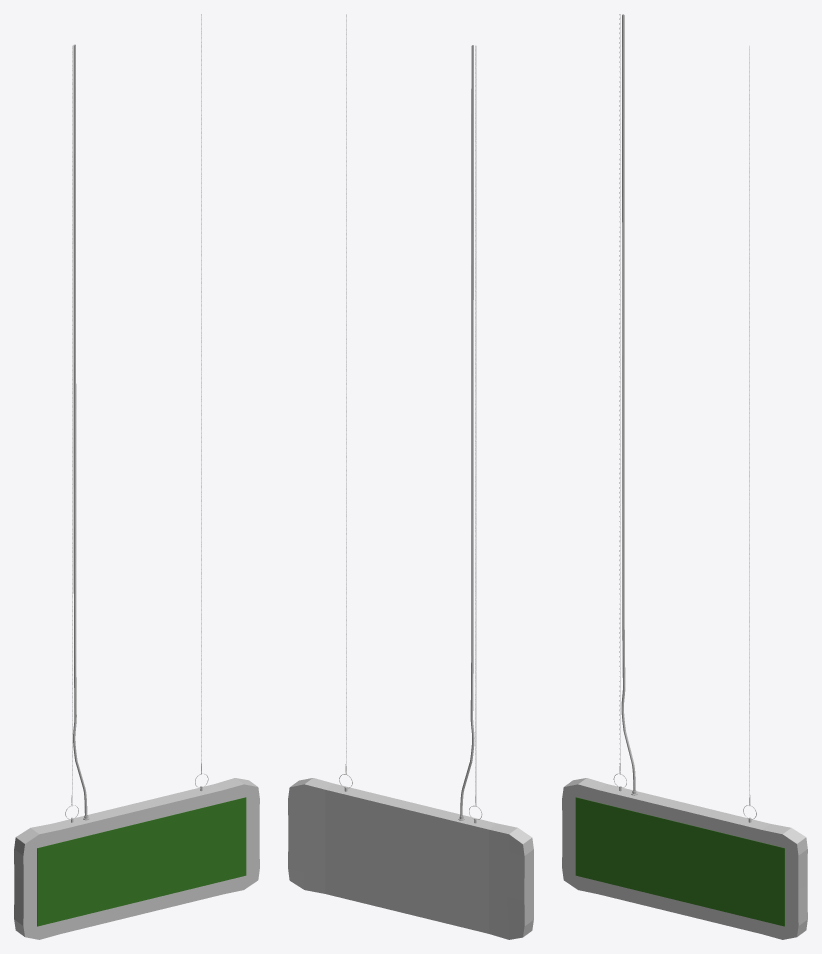
The model's file is exit-sign.fbx.
3 views of the same model, side by side, from view 1: azimuth 30°, elevation 25°; view 2: azimuth 150°, elevation 25°; view 3: azimuth 330°, elevation 25° (orthographic).
Parts seen in each view (by area): view 1: Box009; view 2: Box009; view 3: Box009.
Part boxes in pixels (box(x1,y1,x2,y2)): Box009: box(14, 14, 259, 939); Box009: box(288, 14, 533, 939); Box009: box(562, 14, 807, 939).
Bounding box in the file's own units: 36.49 × 130 × 2.56.
